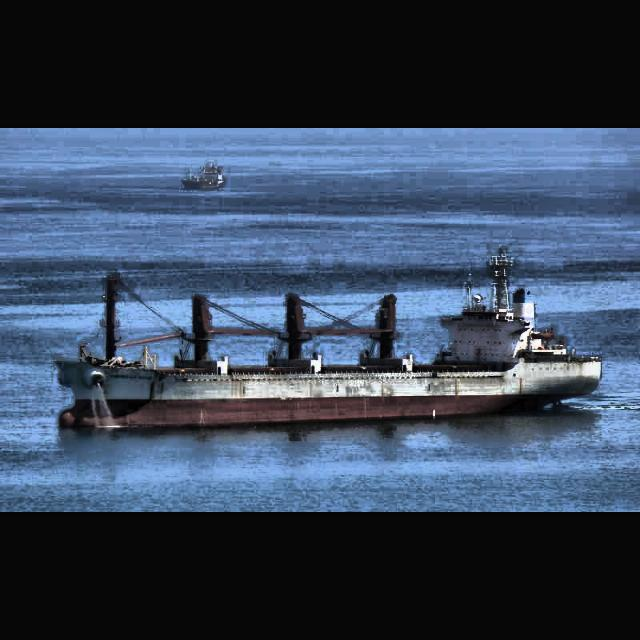bulk_carrier: (52, 244, 602, 431)
